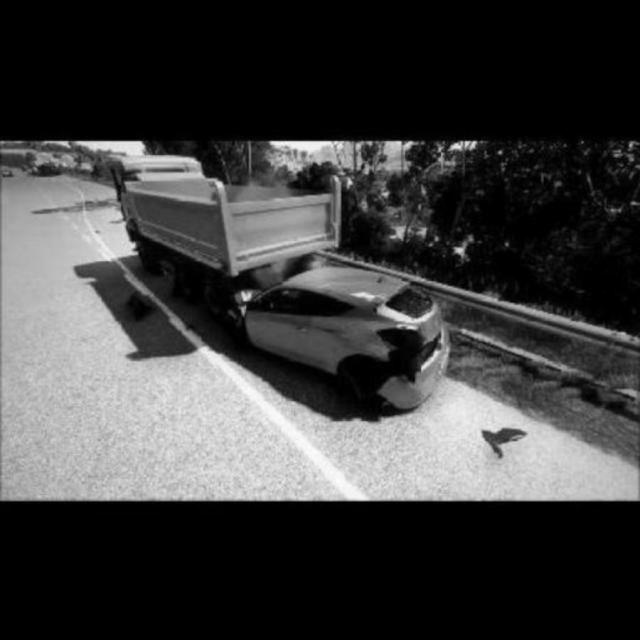accident: (116, 155, 450, 398)
